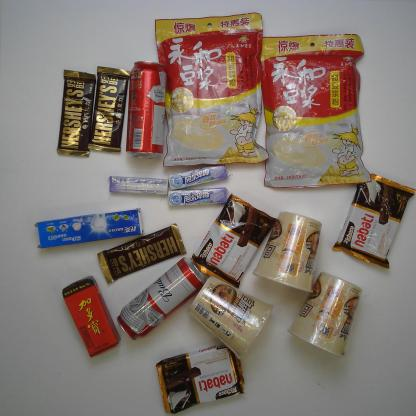Alcohol: (114, 252, 210, 342), (125, 59, 168, 161)
Candy: (167, 162, 229, 192), (107, 174, 169, 197), (166, 186, 230, 207)
Chocolate: (96, 222, 188, 286), (86, 62, 132, 154), (55, 66, 97, 160)
Dessert: (190, 191, 278, 292), (331, 169, 415, 271), (154, 341, 248, 415)
Drink: (61, 275, 122, 359)
Instant Drink: (153, 8, 272, 168), (256, 29, 372, 191)
Instant Noodles: (186, 272, 276, 361), (285, 270, 363, 358), (251, 209, 323, 294)
Personal Hygiene: (33, 206, 144, 249)
